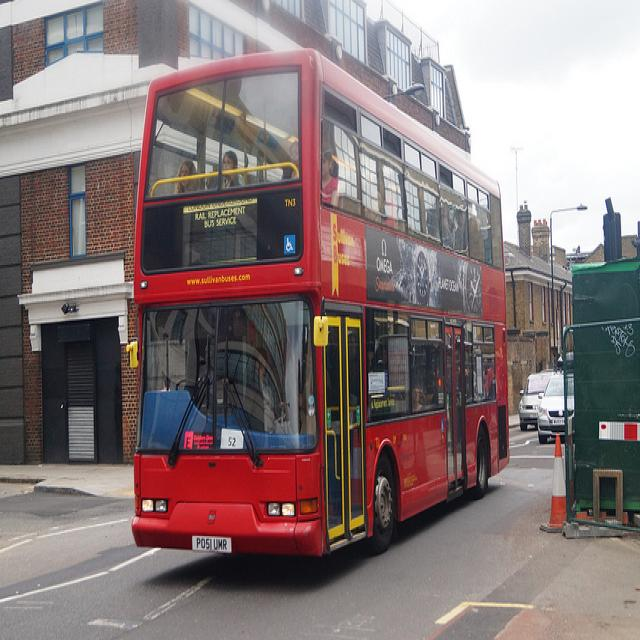Vehicle: (126, 55, 513, 549), (538, 370, 574, 444), (519, 369, 553, 432)
